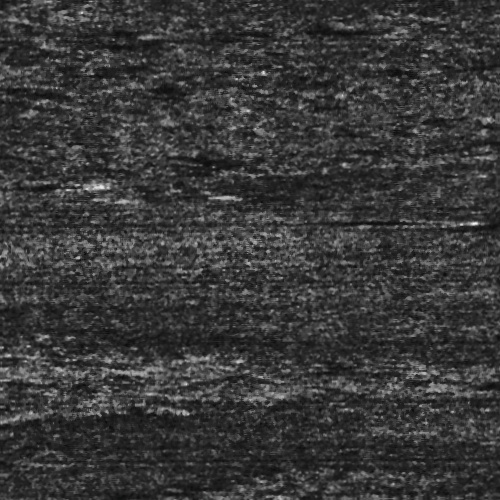object: (424, 216, 497, 223), (49, 179, 112, 184)
shadow: (346, 216, 460, 223), (0, 179, 80, 184)
